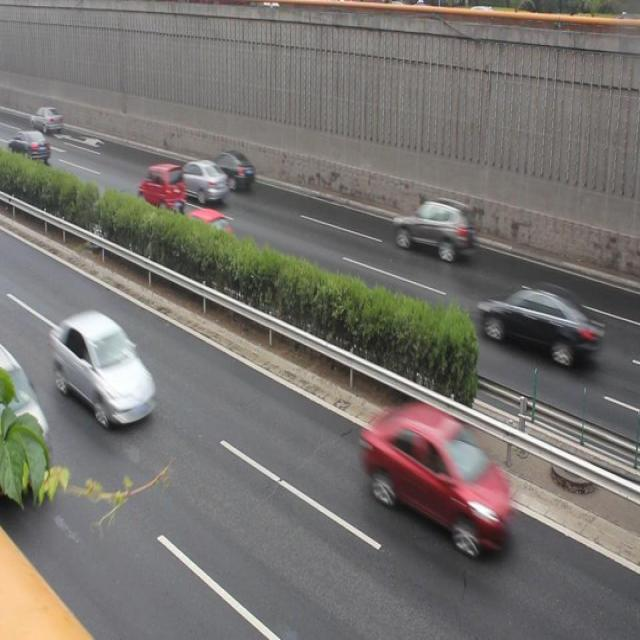car: (363, 404, 503, 544), (55, 314, 152, 424), (478, 283, 602, 363), (394, 200, 474, 264), (174, 207, 235, 262), (173, 158, 226, 208), (138, 164, 183, 214), (207, 151, 254, 192)
truck: (1, 342, 46, 497)
